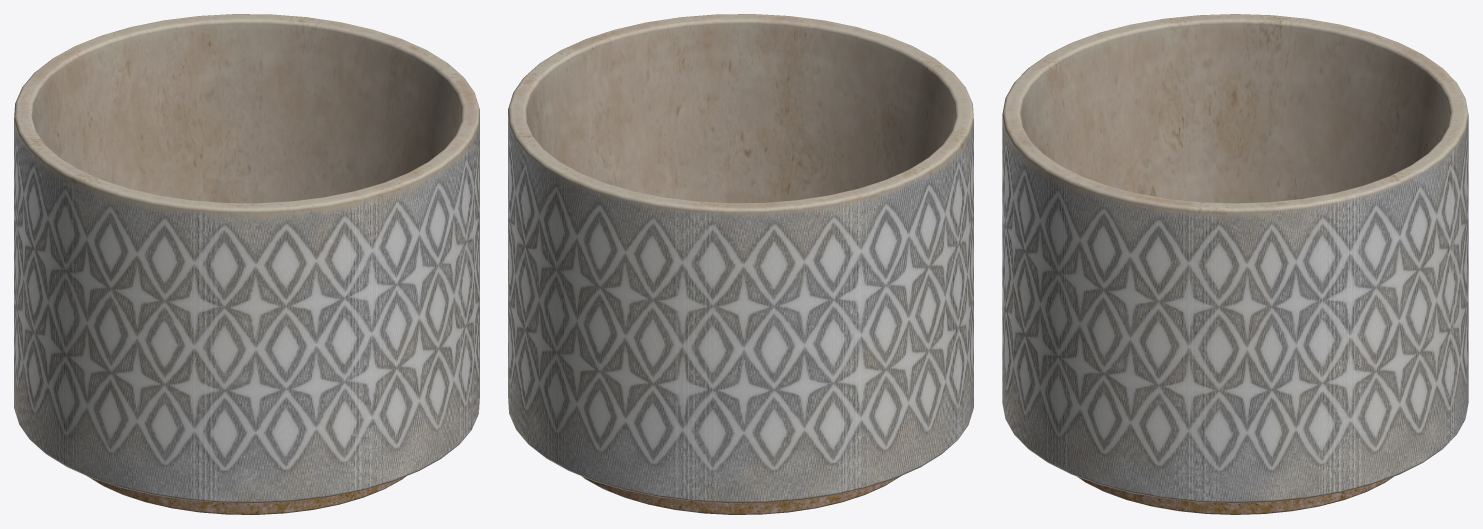
Rendered from planter_B075HWK9M3.glb.
The picture shows the model from 3 angles, left to right: view 1: azimuth 30°, elevation 25°; view 2: azimuth 150°, elevation 25°; view 3: azimuth 270°, elevation 25°; orthographic projection.
Parts seen in each view (by area): view 1: RootNode; view 2: RootNode; view 3: RootNode.
Part boxes in pixels (<box>): RootNode: <box>14,14,479,514</box>; RootNode: <box>508,14,973,514</box>; RootNode: <box>1002,14,1468,514</box>.
Size of the model in its own units: 0.1642 by 0.127 by 0.1642.
Materials: 1 (1 with a texture image).
